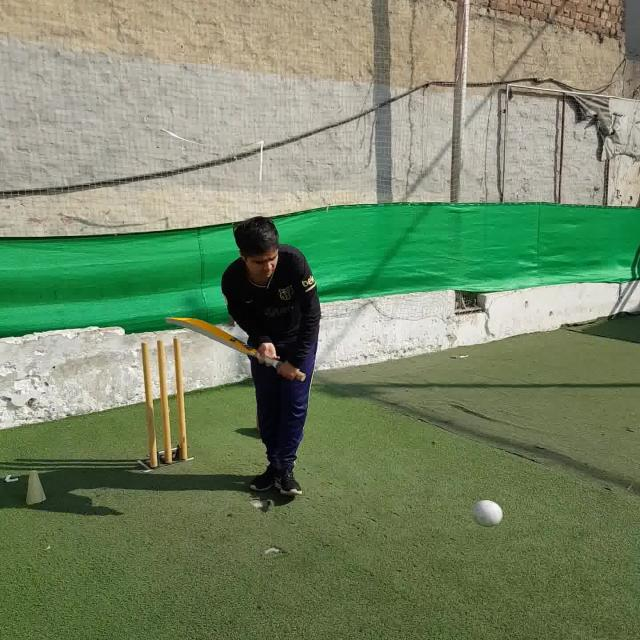ball: (473, 500, 504, 528)
bat: (170, 309, 308, 379)
